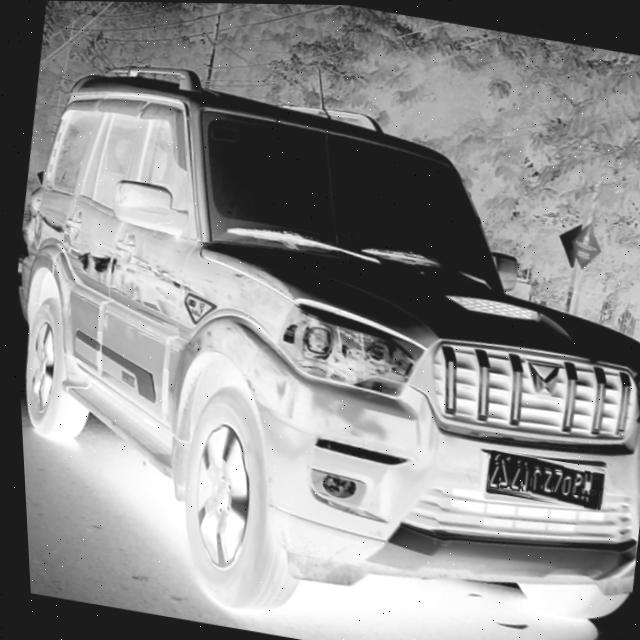0: (556, 470, 570, 494)
1: (515, 466, 526, 490)
7: (503, 464, 518, 490), (482, 463, 497, 488), (493, 463, 506, 488), (547, 469, 559, 492)
IND: (585, 470, 600, 489)
Indian_registered: (483, 449, 598, 509)
J: (524, 466, 538, 491)
M: (575, 470, 590, 496)
P: (567, 470, 580, 495)
Z: (534, 467, 549, 492)
